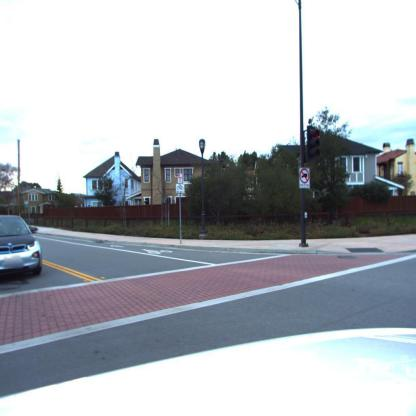car: (1, 215, 44, 282)
sign: (172, 172, 187, 194), (300, 167, 312, 190)
traffic light: (307, 128, 319, 160)
